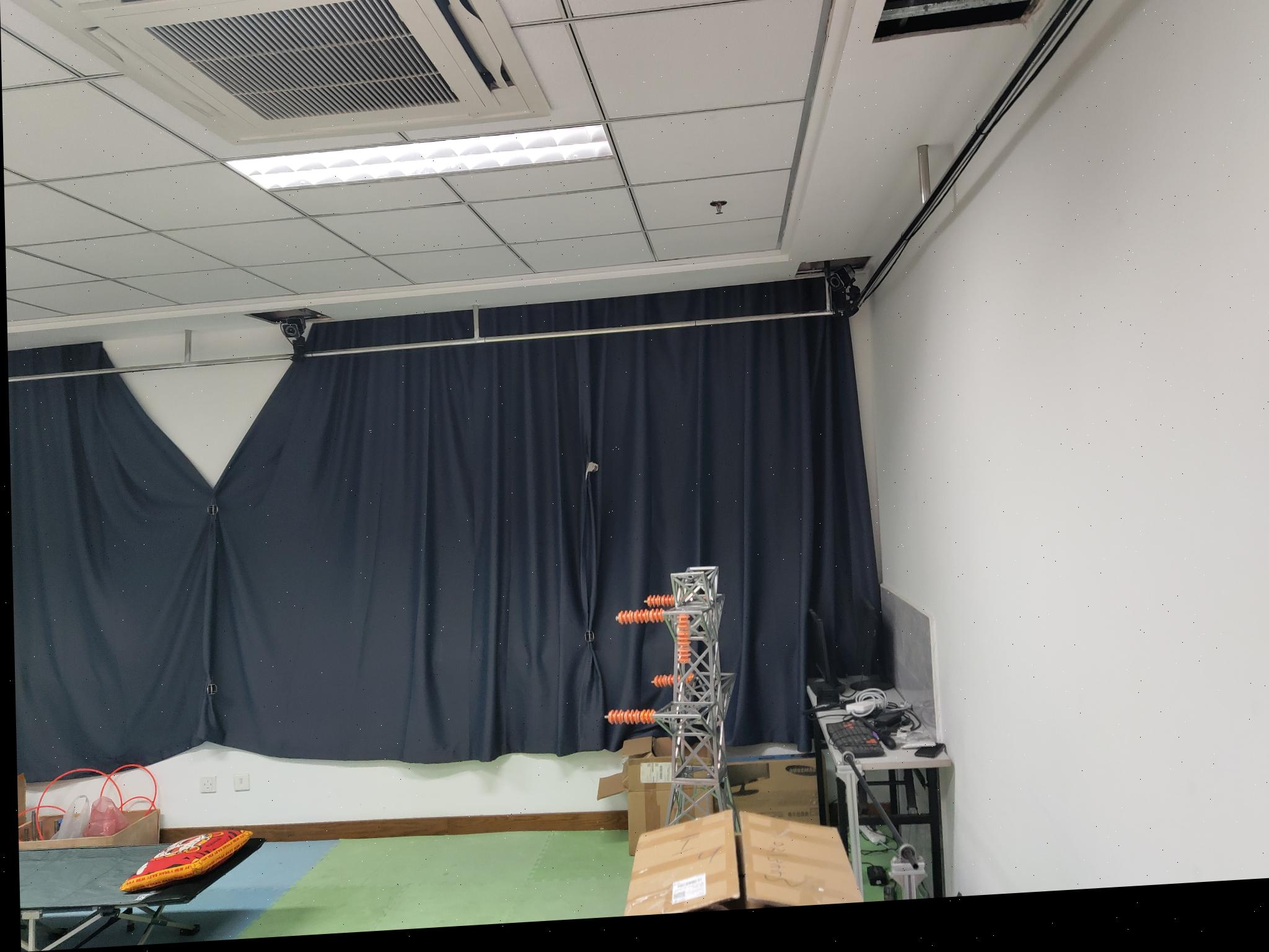tower: (655, 564, 742, 819)
